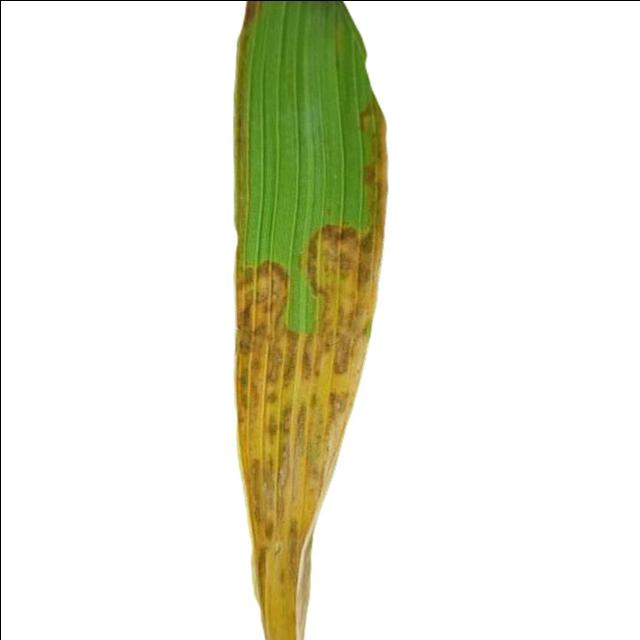Leaf scald: (186, 0, 473, 640)
